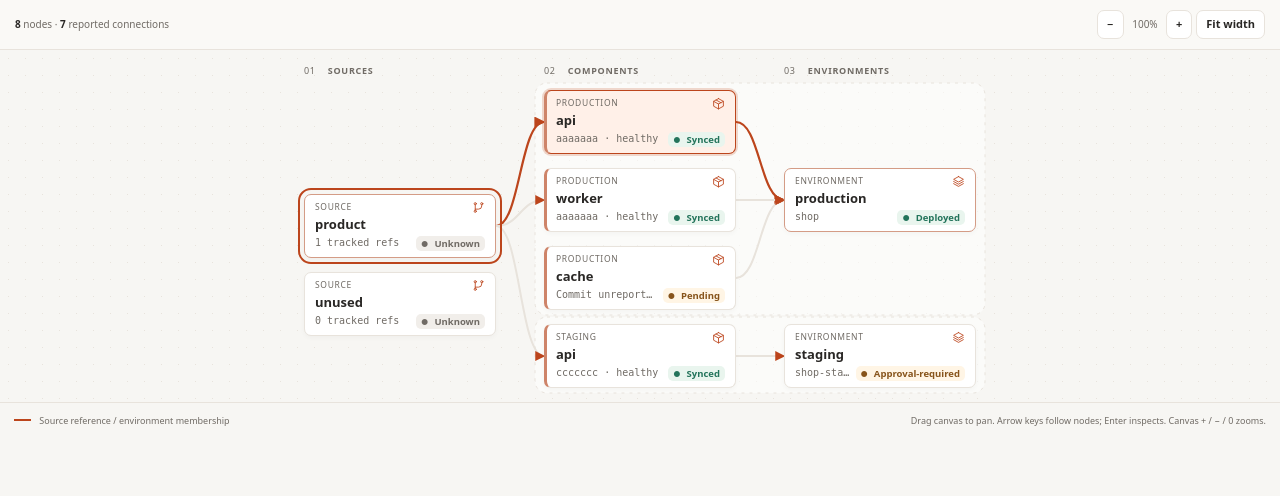
supports native keyboard selection and zoom without changing reported topology
The image size is (1280, 496).
Press Arrowright Enter
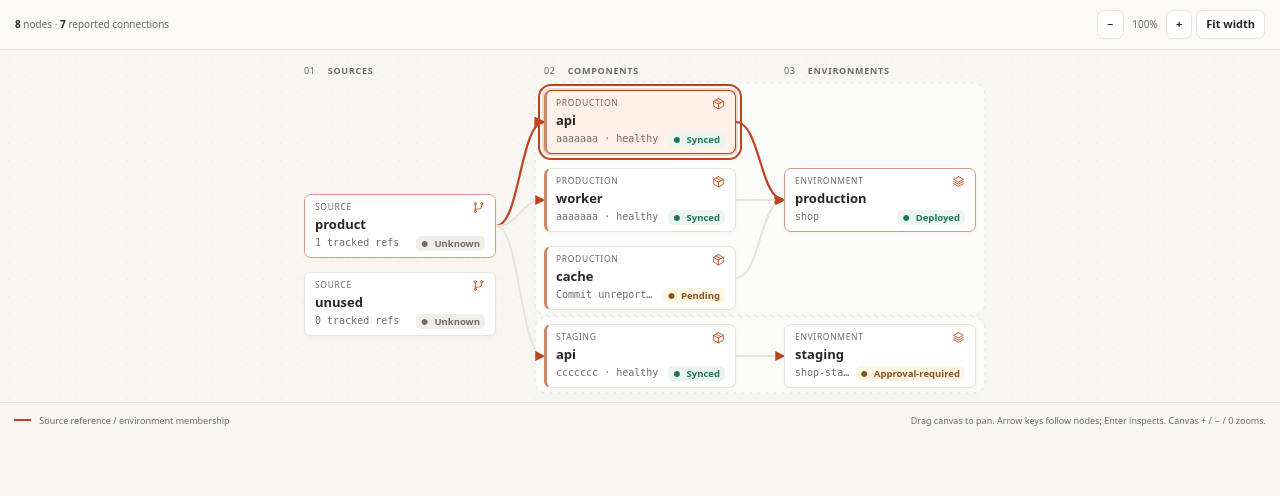
Expected: the text named "Topology zoom level" reads "100%", [1132,17,1158,31]
Click the button named "Zoom in topology" at (1179, 24), box [1166,10,1192,39]
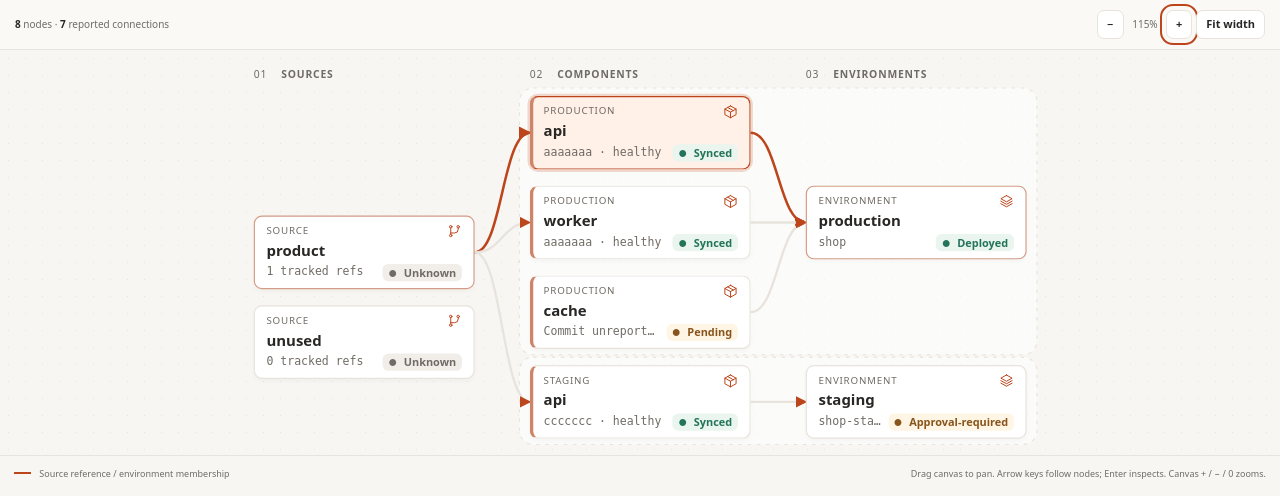
Expected: the text named "Topology zoom level" reads "115%", [1132,17,1158,31]
Click the button "Fit width" at (1231, 24), box [1196,10,1265,39]
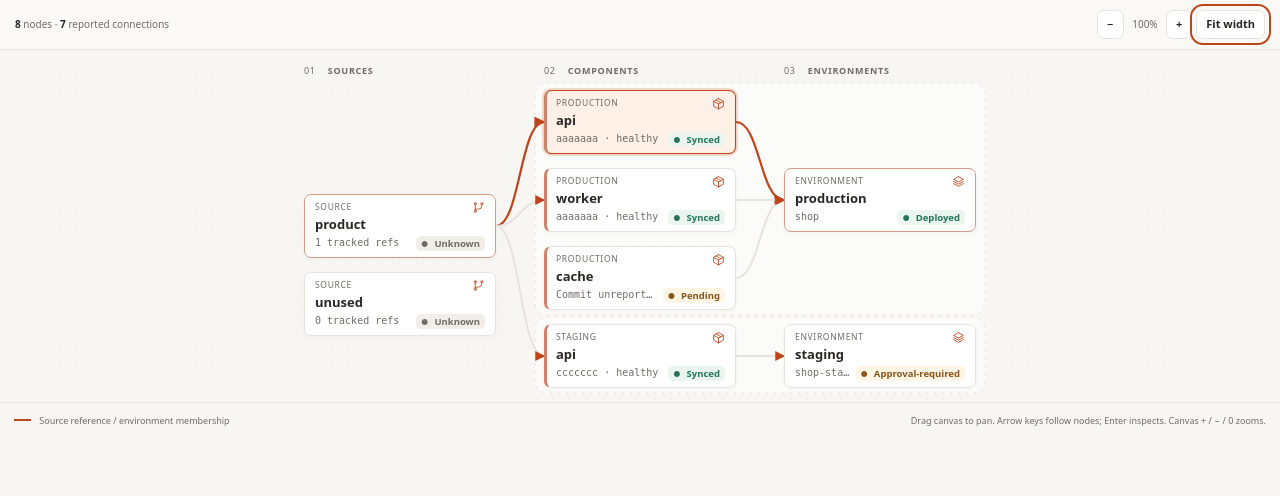
Expected: the number of buttons named "Inspect " is 4, [544,90,736,154]; [544,168,736,232]; [544,246,736,310]; [544,324,736,388]
Expected: the text named "Topology zoom level" reads "100%", [1132,17,1158,31]
